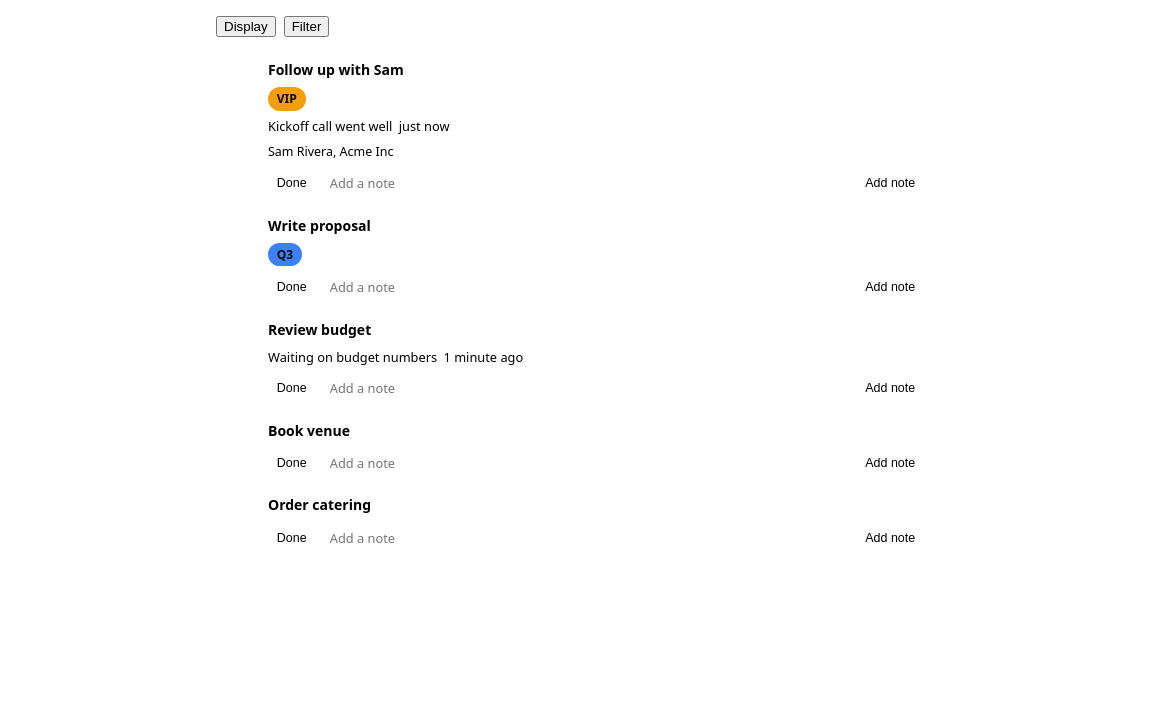
Test case: UpNextPage — Story 3: configure the view › toggling lane on and latest note off previews live on the list behind the popup (FR-011)
Click the button with test id "up-next-open-display" at {"x": 246, "y": 26}, box [216,16,276,37]
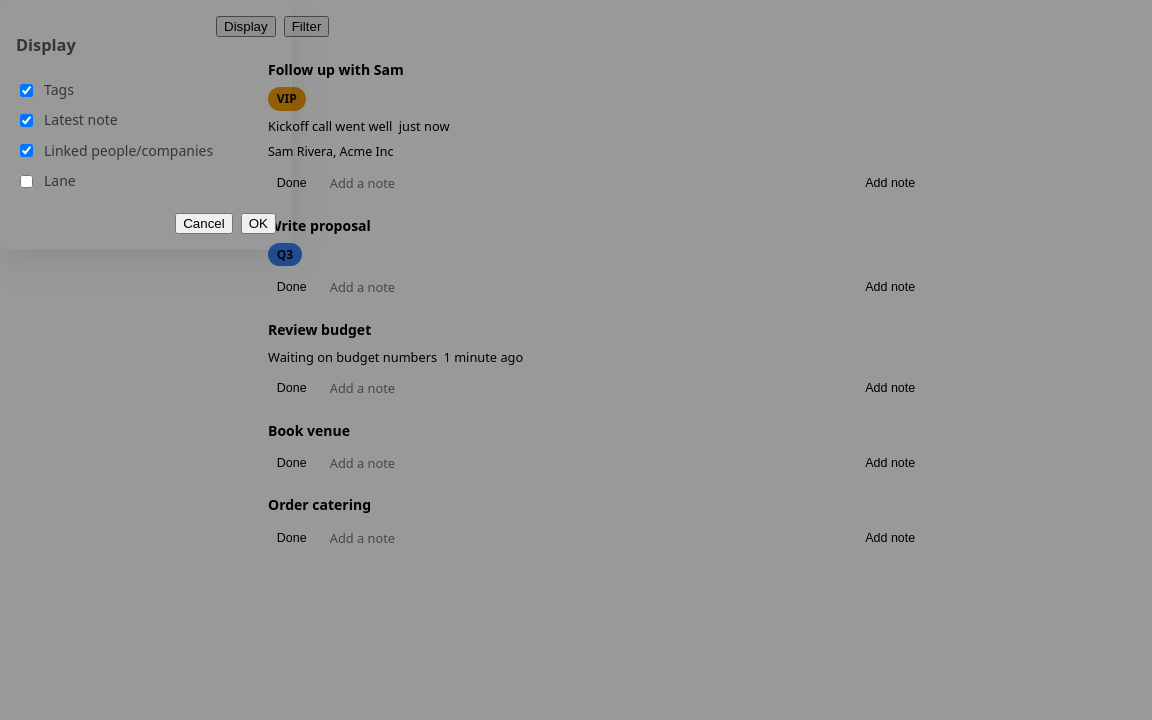
Click the checkbox with test id "up-next-toggle-lane" at {"x": 26, "y": 181}, box [20,175,33,188]
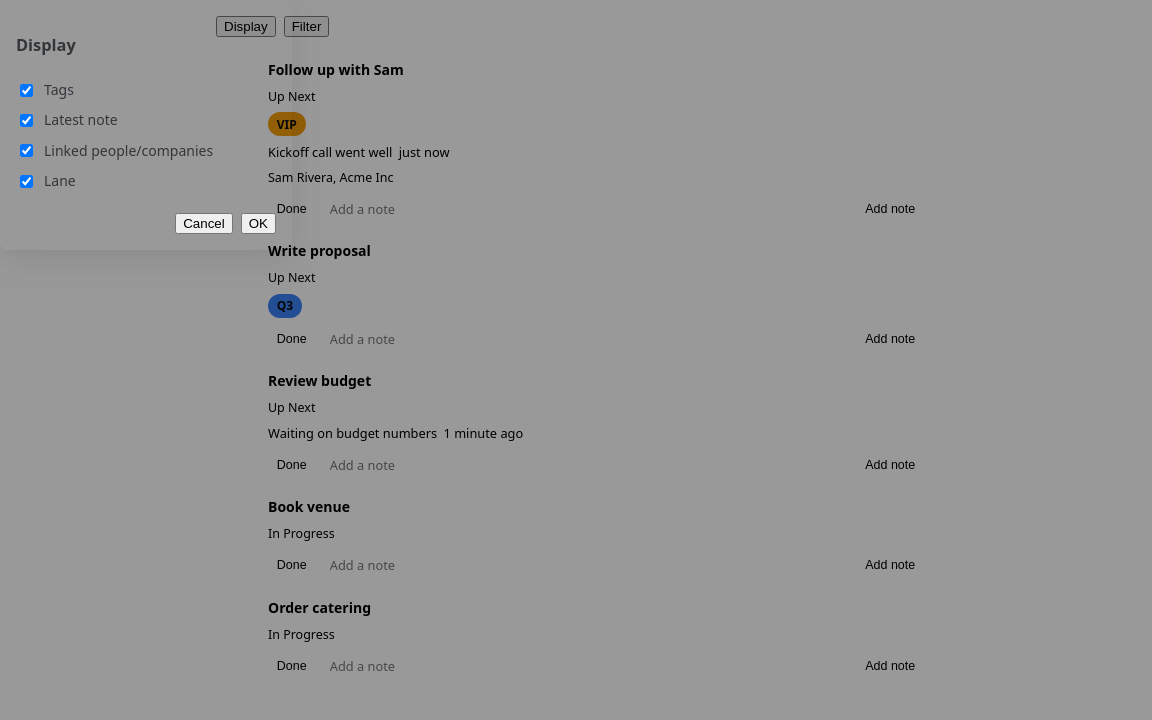
Click the checkbox with test id "up-next-toggle-latestNote" at {"x": 26, "y": 120}, box [20,114,33,127]
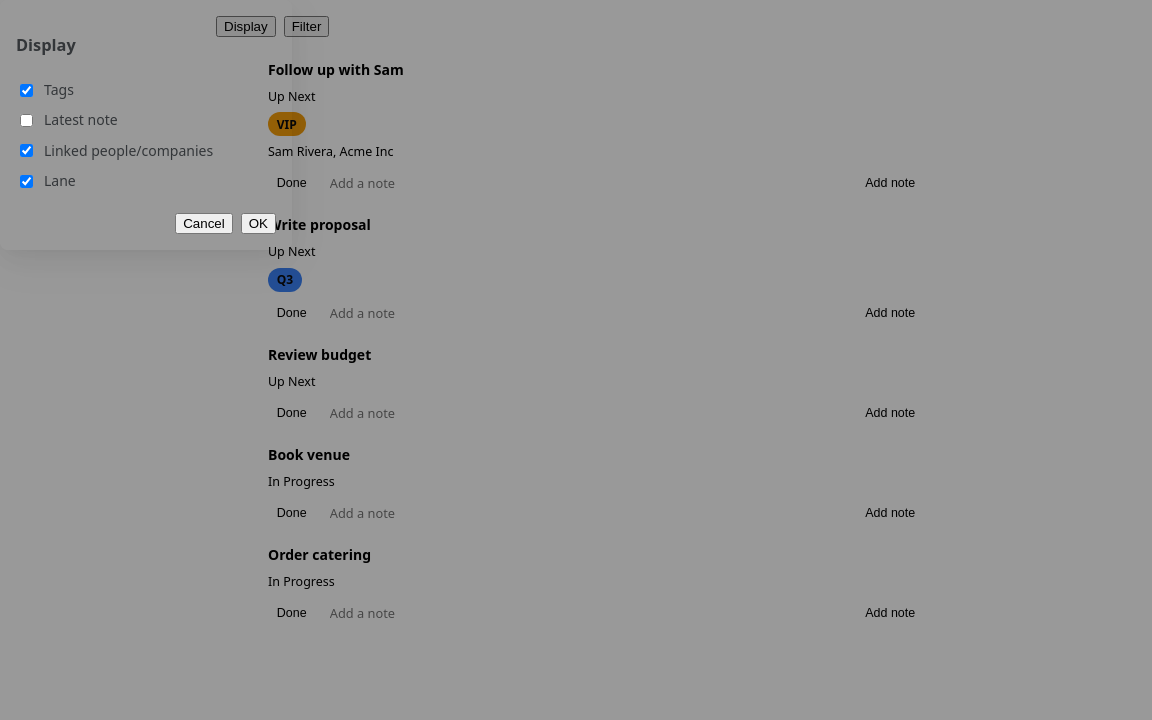
Expected: the text with test id "up-next-card-lane" reads "Up Next", [268,88,315,105]
Expected: the element with test id "up-next-note-snippet" is gone
